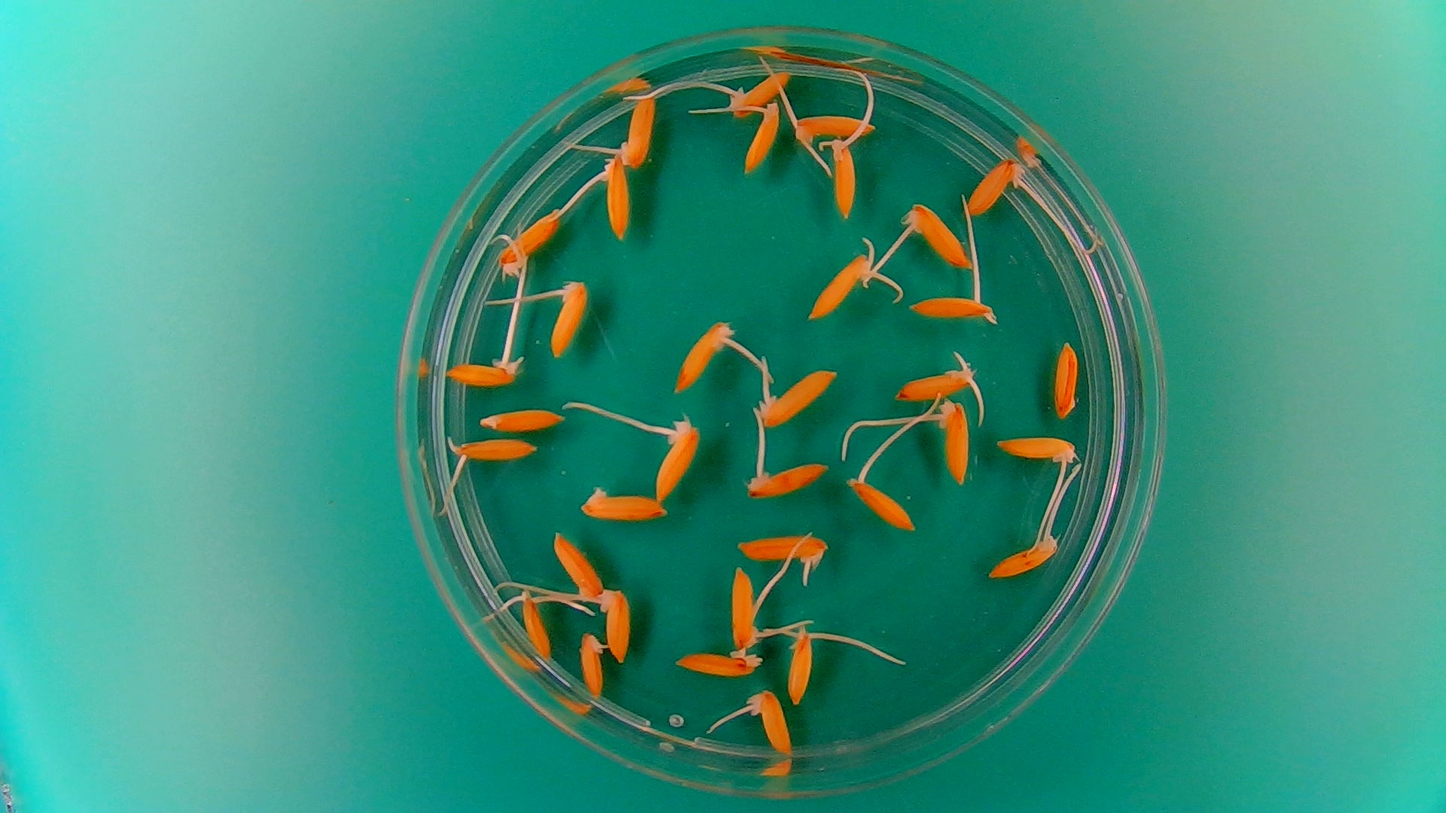no: (577, 481, 672, 524), (673, 646, 764, 681), (474, 407, 569, 435), (1050, 339, 1081, 422)
yes: (964, 154, 1040, 225), (651, 407, 703, 504), (902, 200, 972, 272), (804, 252, 877, 321), (756, 367, 838, 428), (670, 319, 735, 394), (496, 206, 564, 276), (842, 474, 919, 534), (734, 529, 831, 575), (989, 528, 1066, 582), (541, 276, 590, 360), (711, 69, 793, 119), (740, 685, 796, 757), (551, 528, 606, 601), (611, 88, 659, 169), (727, 563, 769, 653), (996, 431, 1079, 476), (890, 363, 983, 403), (935, 400, 975, 491), (588, 156, 631, 240), (742, 462, 831, 501), (823, 134, 861, 221), (443, 433, 541, 466), (740, 100, 782, 177), (794, 111, 880, 148), (783, 623, 819, 707), (514, 588, 554, 662), (906, 290, 990, 325), (599, 585, 631, 665), (448, 354, 517, 389), (575, 627, 606, 702)
